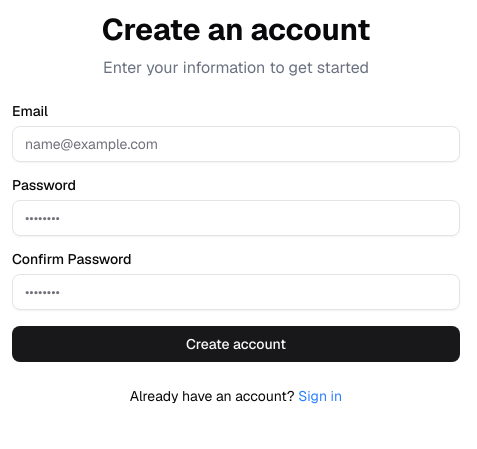
Scenario: Authentication Flow › RegisterForm › validates password matching
The width and height of the screenshot is (477, 449).
Type "test@example.com" into the field labelled "Email".
click(236, 144); type("test@example.com")  # box [12,126,460,162]
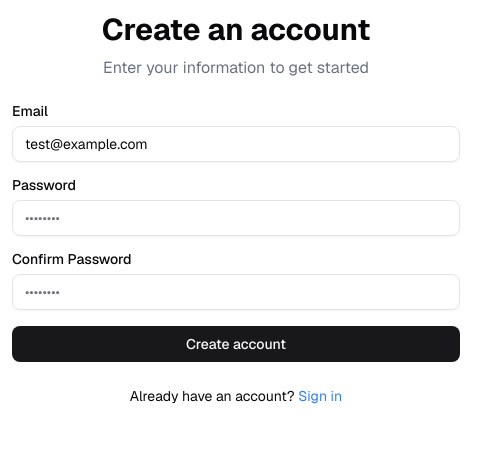
Type "password123" into the password field labelled "Password".
click(236, 218); type("password123")  # box [12,200,460,236]
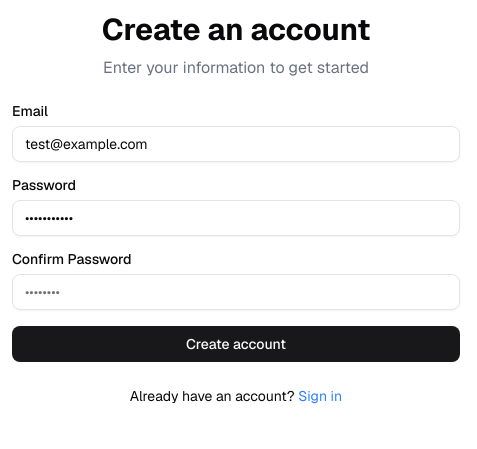
Type "different" into the password field labelled "Confirm Password".
click(236, 292); type("different")  # box [12,274,460,310]
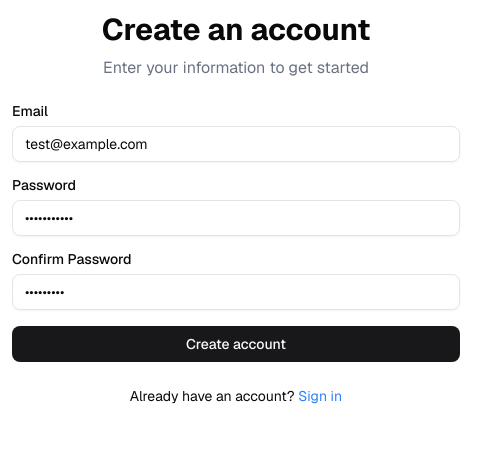
Click the button "Create account".
click(236, 344)  # box [12,326,460,362]
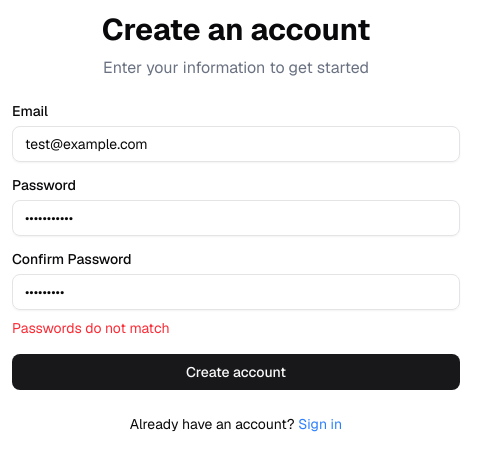
Check: the text "Passwords do not match" is shown, box [12,319,170,337]
